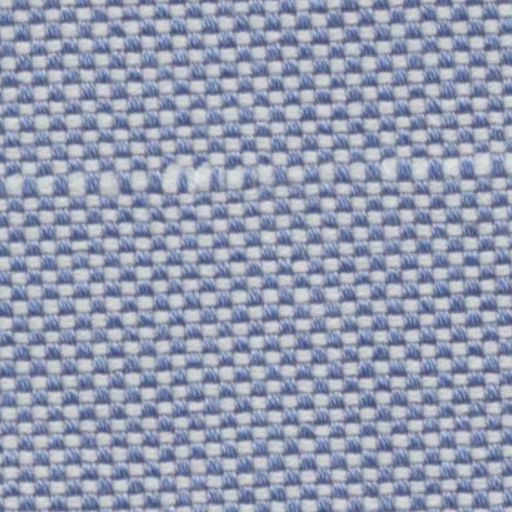DaiSha: (12, 146, 497, 215)
